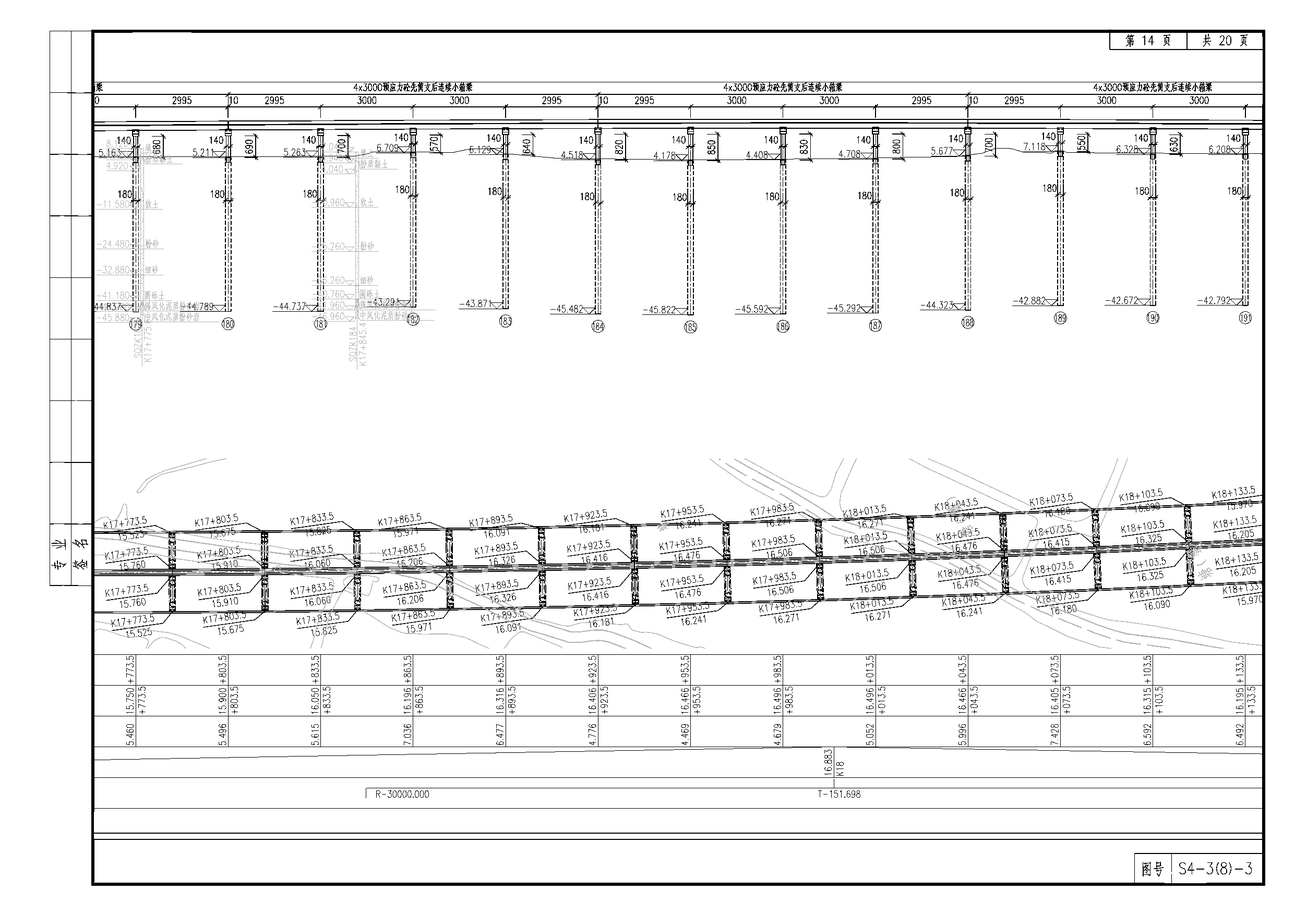A: (92, 63, 1263, 384)
